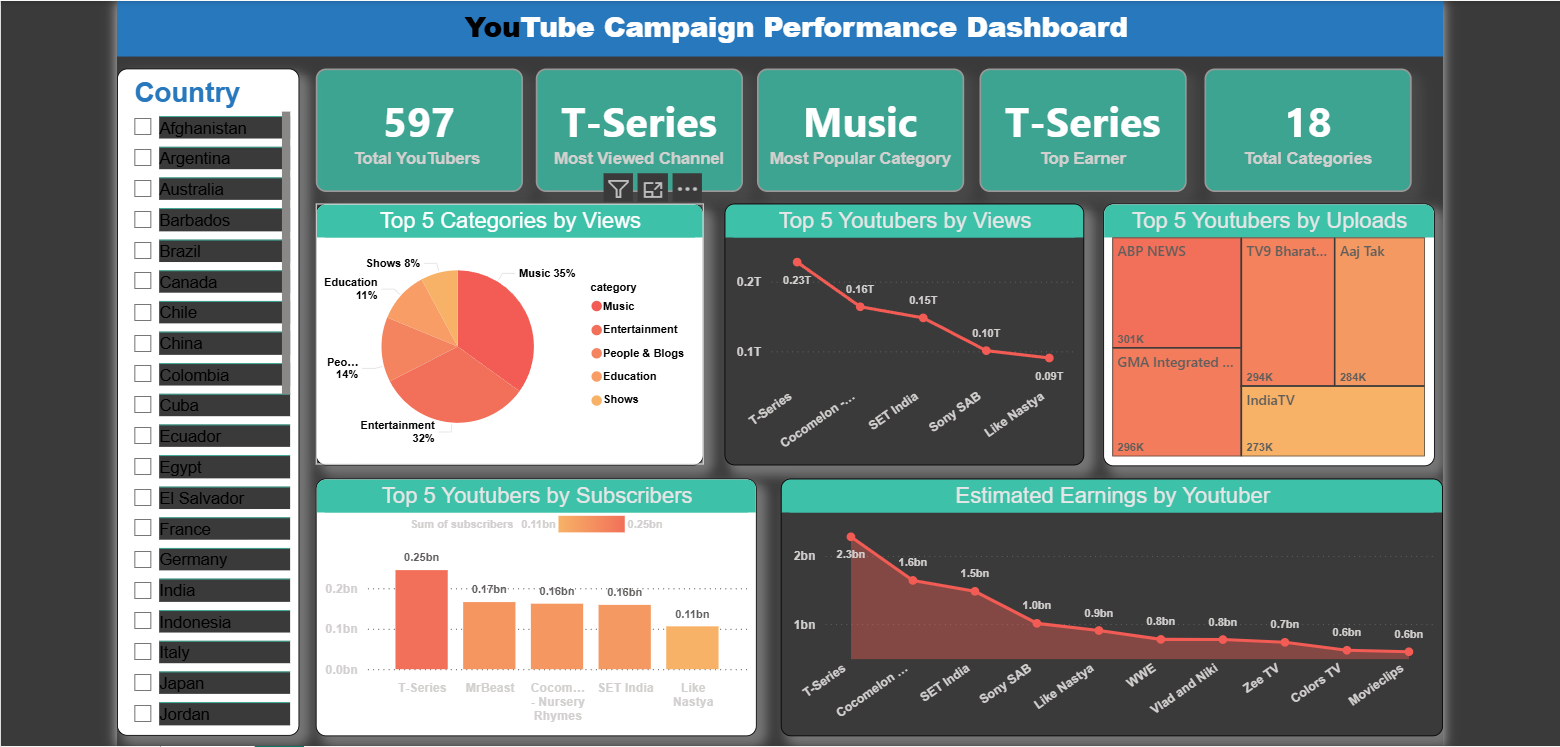

Layout of this report page (visuals, bound fields, positions):
{"tool":"powerbi","page":{"name":"Page 1","canvas":[1280,720],"ordinal":0},"visuals":[{"type":"textbox","box":[0,0,1280,53.5],"z":0},{"type":"slicer","fields":{"Values":["Global YouTube Statistics.Country"]},"box":[0,65.1,176.1,644.2],"z":1000},{"type":"card","fields":{"Values":["Global YouTube Statistics.Youtuber_Count"]},"box":[191.6,64.7,200.3,119.4],"z":2000},{"type":"card","fields":{"Values":["Global YouTube Statistics.Most_viewed_yt"]},"box":[404.3,64.7,200.3,119.4],"z":3000},{"type":"card","fields":{"Values":["Global YouTube Statistics.Most_popular_cat"]},"box":[618.2,64.7,200.3,119.4],"z":4000},{"type":"card","fields":{"Values":["Global YouTube Statistics.TopEarner"]},"box":[832.2,64.7,200.3,119.4],"z":5000},{"type":"card","fields":{"Values":["Global YouTube Statistics.Category_count"]},"box":[1049.9,64.7,200.3,119.4],"z":6000},{"type":"pieChart","title":"Top 5 Categories by Views","fields":{"Y":["Global YouTube Statistics.Total_views"],"Category":["Global YouTube Statistics.category"]},"box":[191.6,195.3,374.4,252.5],"z":7000},{"type":"lineChart","title":"Top 5 Youtubers by Views","fields":{"Category":["Global YouTube Statistics.Youtuber"],"Y":["Global YouTube Statistics.video views"]},"box":[585.9,195.3,347.1,252.5],"z":8000},{"type":"treemap","title":"Top 5 Youtubers by Uploads","fields":{"Group":["Global YouTube Statistics.Youtuber"],"Values":["Global YouTube Statistics.uploads"]},"box":[951.9,195.4,319.7,253.4],"z":9000},{"type":"columnChart","title":"Top 5 Youtubers by Subscribers","fields":{"Category":["Global YouTube Statistics.Youtuber"],"Y":["Global YouTube Statistics.subscribers"]},"box":[191.8,460.9,425.9,248.5],"z":10000},{"type":"areaChart","title":"Estimated Earnings by Youtuber","fields":{"Category":["Global YouTube Statistics.Youtuber"],"Y":["Global YouTube Statistics.Estimated_earning"]},"box":[640.6,460.9,639.4,248.5],"z":11000}]}

Visuals, with their boxes in screenshot pixels (x1, y1, x2, y2):
textbox: (left=114, top=0, right=1424, bottom=55)
slicer - Global YouTube Statistics.Country: (left=114, top=67, right=294, bottom=726)
card - Global YouTube Statistics.Youtuber_Count: (left=310, top=66, right=515, bottom=188)
card - Global YouTube Statistics.Most_viewed_yt: (left=528, top=66, right=733, bottom=188)
card - Global YouTube Statistics.Most_popular_cat: (left=747, top=66, right=952, bottom=188)
card - Global YouTube Statistics.TopEarner: (left=966, top=66, right=1171, bottom=188)
card - Global YouTube Statistics.Category_count: (left=1189, top=66, right=1394, bottom=188)
"Top 5 Categories by Views" pieChart: (left=310, top=200, right=693, bottom=458)
"Top 5 Youtubers by Views" lineChart: (left=714, top=200, right=1069, bottom=458)
"Top 5 Youtubers by Uploads" treemap: (left=1088, top=200, right=1416, bottom=459)
"Top 5 Youtubers by Subscribers" columnChart: (left=310, top=472, right=746, bottom=726)
"Estimated Earnings by Youtuber" areaChart: (left=770, top=472, right=1424, bottom=726)
